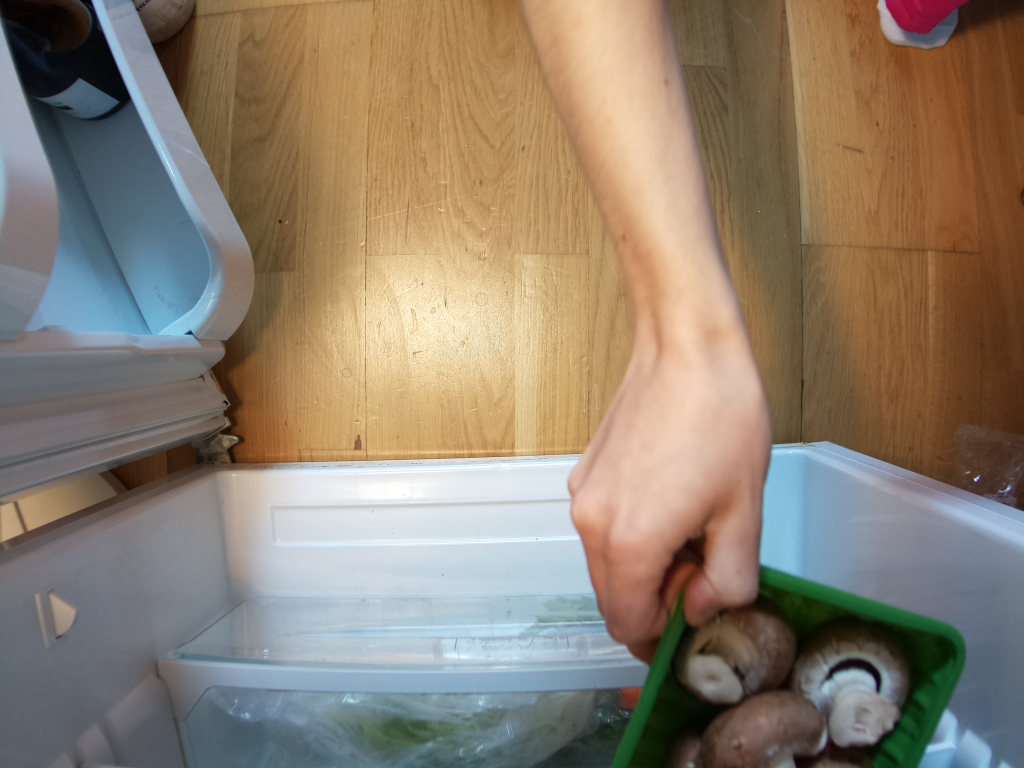mushrooms: (604, 556, 966, 763)
